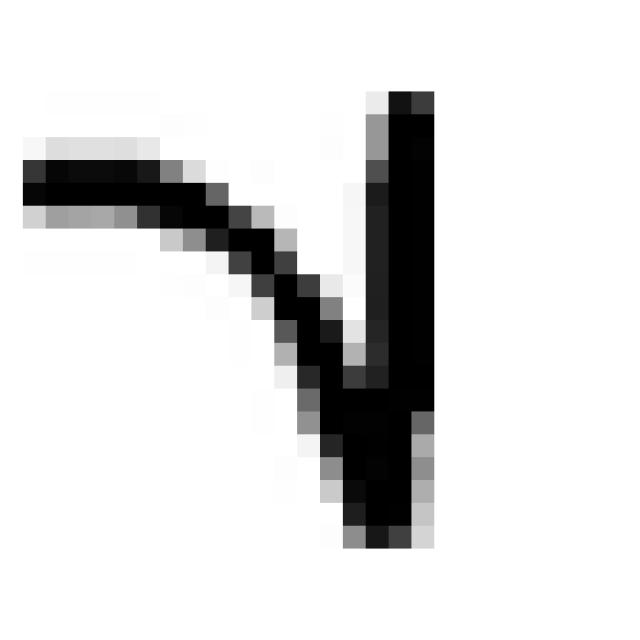7 -seven-: (9, 73, 475, 568)
